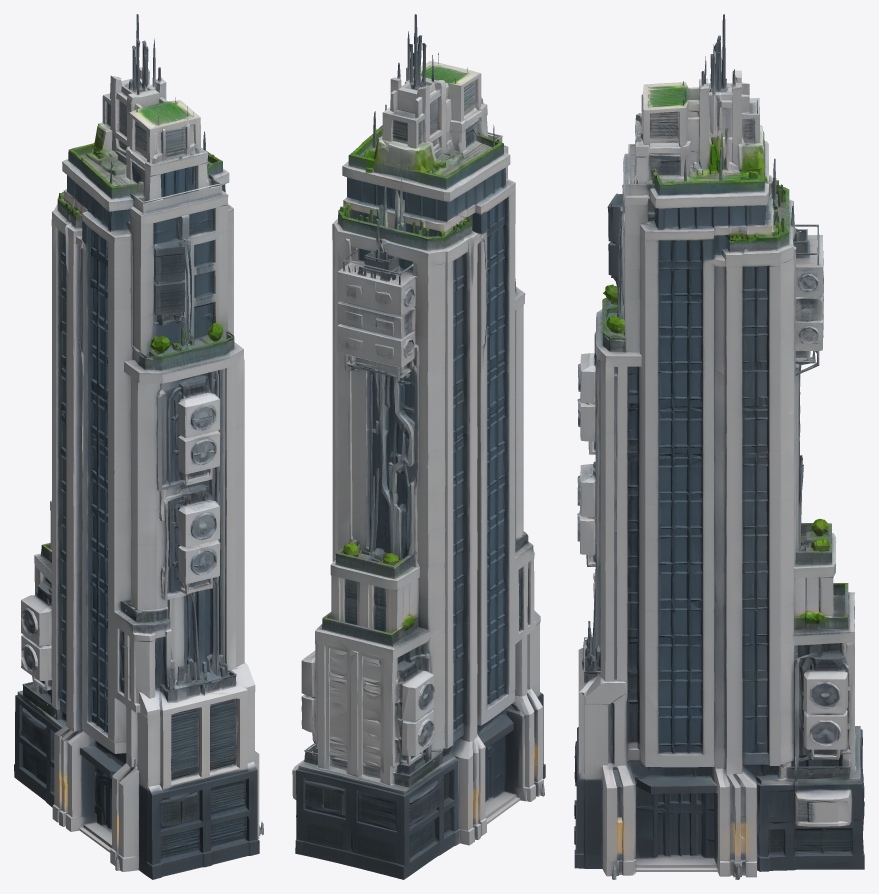
File: source.glb
The picture shows the model from 3 angles, left to right: view 1: azimuth 30°, elevation 25°; view 2: azimuth 150°, elevation 25°; view 3: azimuth 270°, elevation 25°; orthographic projection. The views are drawn at different scales.
Visible parts, largest first — view 1: model; view 2: model; view 3: model.
Boxes of the visible parts, x1=… form: model: x1=14, y1=14, x2=263, y2=879; model: x1=292, y1=14, x2=545, y2=879; model: x1=574, y1=14, x2=864, y2=879.
Bounding box in the file's own units: 0.3683 × 1.89 × 0.6011.
1 material, 1 textured.
